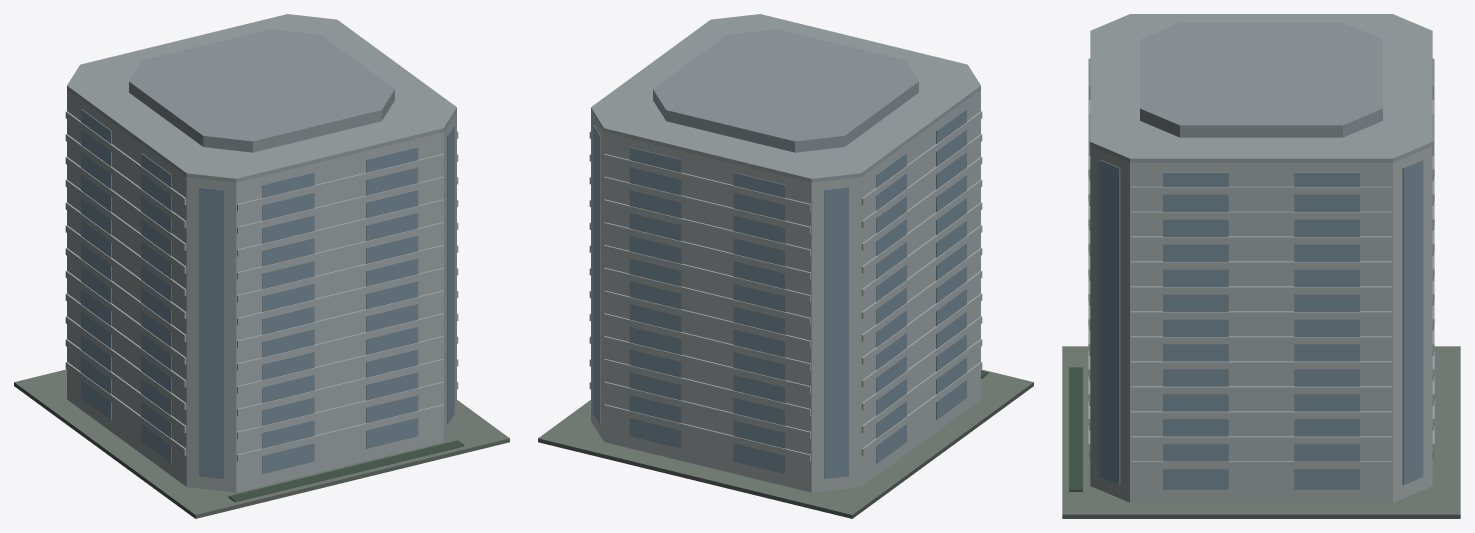
Rendered from generic-point.glb.
3 renders of one model, left to right at view 1: azimuth 30°, elevation 25°; view 2: azimuth 150°, elevation 25°; view 3: azimuth 270°, elevation 25°, orthographic. The views are drawn at different scales.
Visible parts, largest first — view 1: generic-point; view 2: generic-point; view 3: generic-point.
Part boxes in pixels (left/top/right/bottom): generic-point: left=14, top=14, right=509, bottom=518; generic-point: left=538, top=14, right=1033, bottom=518; generic-point: left=1062, top=14, right=1460, bottom=518.
Size of the model in its own units: 1 by 1 by 1.
